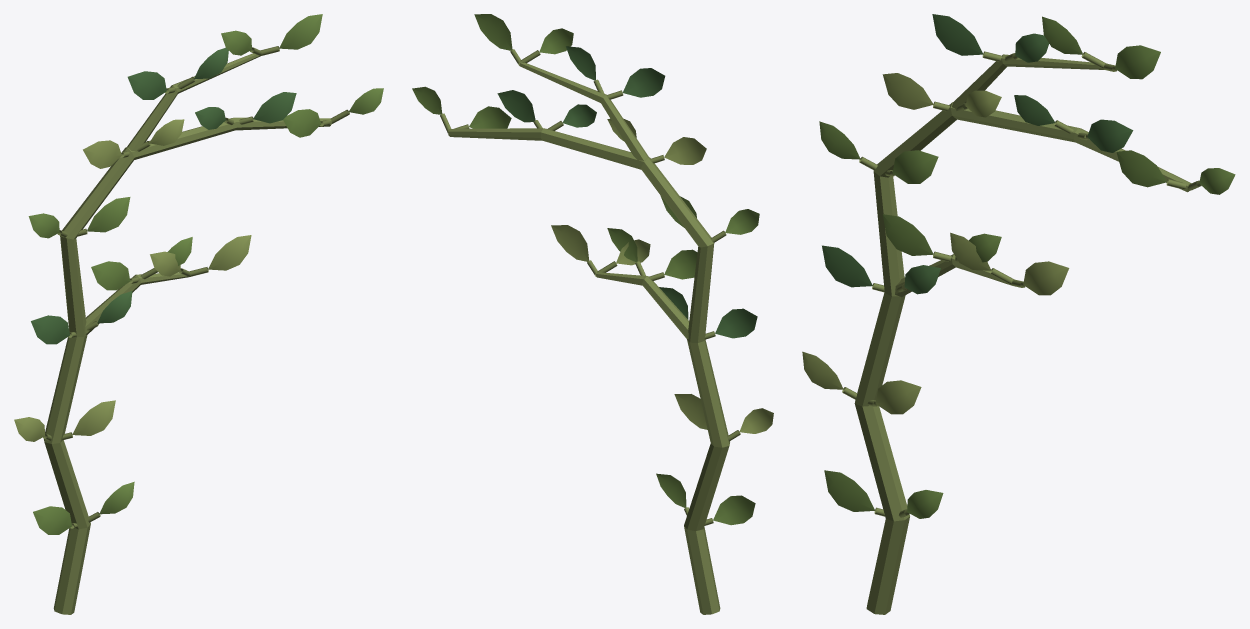
The model's file is 007_window_vine.glb.
3 renders of one model, left to right at view 1: azimuth 30°, elevation 25°; view 2: azimuth 150°, elevation 25°; view 3: azimuth 330°, elevation 25°, orthographic. The views are drawn at different scales.
Visible parts, largest first — view 1: VIN_Parent_stem, VIN-007_leaves_parent, VIN-007_leaves_branch, VIN_Upper_branch, VIN-007_petioles_parent, VIN_Window_edge_branch, VIN-007_petioles_branch; view 2: VIN_Parent_stem, VIN-007_leaves_parent, VIN-007_leaves_branch, VIN_Upper_branch, VIN_Window_edge_branch, VIN-007_petioles_branch, VIN-007_petioles_parent; view 3: VIN-007_leaves_parent, VIN_Parent_stem, VIN-007_leaves_branch, VIN_Upper_branch, VIN-007_petioles_parent, VIN-007_petioles_branch, VIN_Window_edge_branch.
Boxes of the visible parts, box(x1,y1,x2,y2) form: VIN_Parent_stem: box(44, 117, 331, 614); VIN-007_leaves_parent: box(14, 88, 383, 534); VIN-007_leaves_branch: box(91, 14, 322, 290); VIN_Upper_branch: box(127, 53, 261, 152); VIN-007_petioles_parent: box(43, 109, 349, 528); VIN_Window_edge_branch: box(85, 272, 188, 334); VIN-007_petioles_branch: box(128, 46, 279, 283); VIN_Parent_stem: box(448, 128, 729, 614); VIN-007_leaves_parent: box(412, 86, 773, 525); VIN-007_leaves_branch: box(474, 14, 697, 279); VIN_Upper_branch: box(519, 62, 648, 160); VIN_Window_edge_branch: box(596, 272, 689, 338); VIN-007_petioles_branch: box(510, 49, 664, 280); VIN-007_petioles_parent: box(440, 113, 740, 525); VIN-007_leaves_parent: box(802, 73, 1235, 518); VIN_Parent_stem: box(854, 102, 1191, 614); VIN-007_leaves_branch: box(882, 14, 1160, 295); VIN_Upper_branch: box(952, 54, 1103, 110); VIN-007_petioles_parent: box(842, 101, 1201, 517); VIN-007_petioles_branch: box(933, 51, 1116, 287); VIN_Window_edge_branch: box(895, 254, 1011, 297).
Size of the model in its own units: 1.78 by 2.53 by 0.1709.
